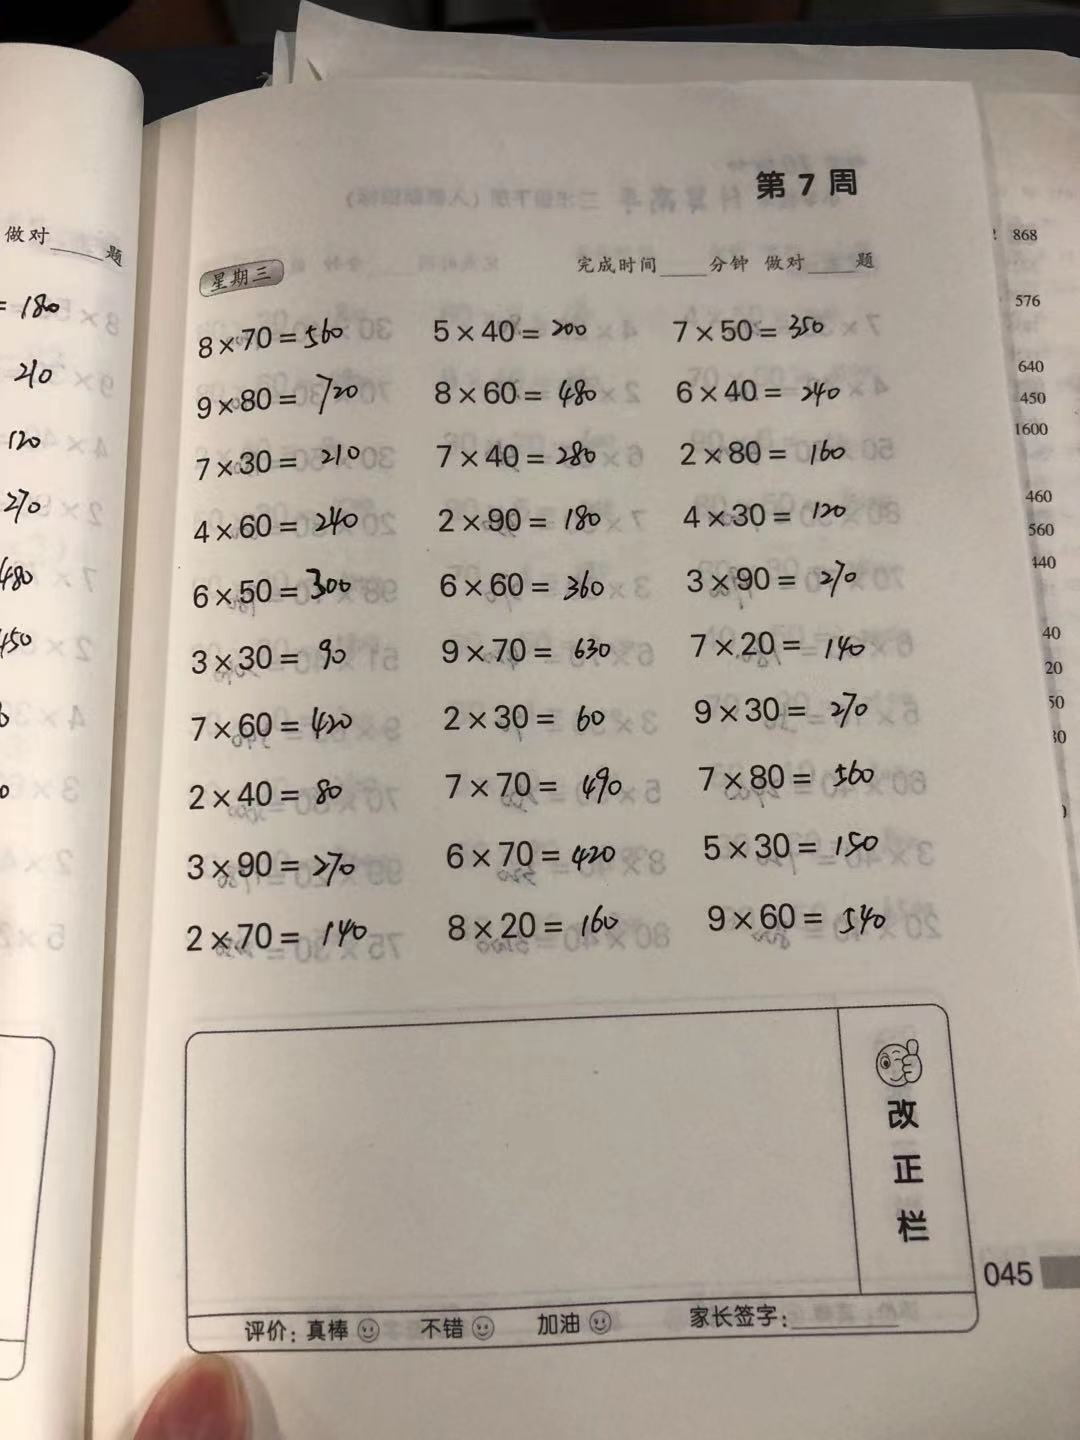equation: (175, 916, 399, 968), (697, 754, 905, 809), (425, 555, 634, 608), (438, 763, 636, 818), (706, 900, 904, 953), (663, 367, 862, 417), (180, 844, 406, 888), (683, 687, 903, 729), (683, 548, 860, 600), (687, 822, 890, 866), (185, 508, 392, 551), (187, 631, 367, 679), (427, 366, 612, 412), (668, 306, 857, 351), (177, 564, 377, 606), (425, 302, 596, 350), (429, 427, 618, 469), (185, 778, 356, 824), (662, 430, 854, 469), (433, 498, 612, 539), (433, 692, 620, 731), (187, 703, 360, 745), (683, 621, 873, 659), (676, 488, 860, 526), (441, 834, 647, 866), (436, 909, 669, 937), (195, 373, 357, 411), (432, 638, 644, 665), (184, 327, 362, 357), (192, 450, 383, 473)
